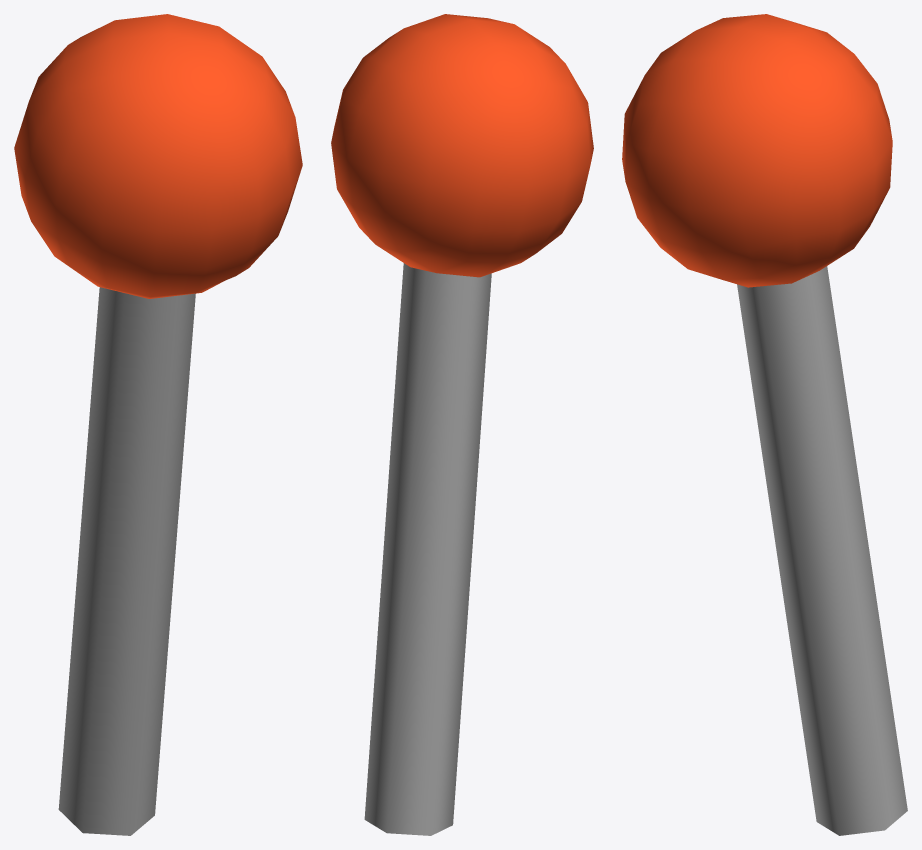
The model's file is terminal_2_002.fbx.
3 renders of one model, left to right at view 1: azimuth 30°, elevation 25°; view 2: azimuth 150°, elevation 25°; view 3: azimuth 270°, elevation 25°, orthographic. The views are drawn at different scales.
Visible parts, largest first — view 1: terminal_2_002; view 2: terminal_2_002; view 3: terminal_2_002.
Boxes of the visible parts, <box> form: terminal_2_002: <box>14,14,302,835</box>; terminal_2_002: <box>331,14,593,835</box>; terminal_2_002: <box>622,14,907,835</box>.
Size of the model in its own units: 34 by 35.58 by 109.
